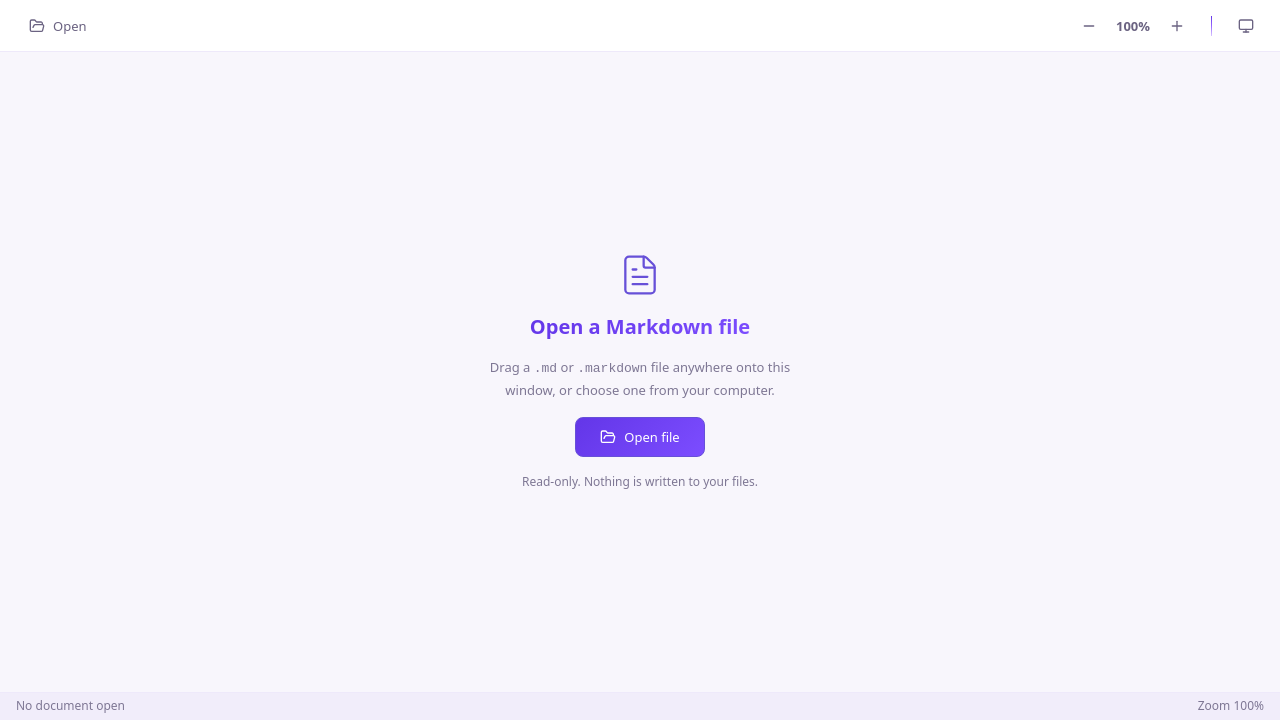
file-level states › reports a non-UTF-8 file without leaking raw OS text
Click the button "Open file" at (640, 437), box [575,417,705,457]
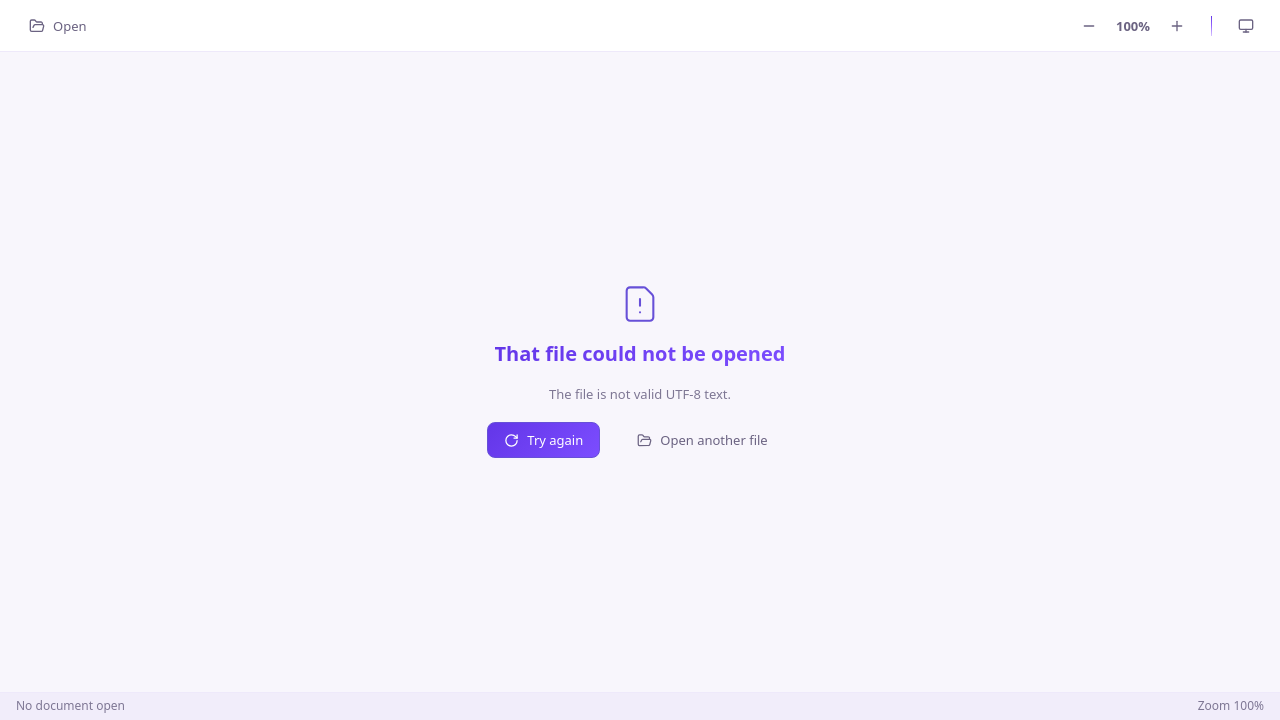
Expected: the message reads "The file is not valid UTF-8 text.", [549,385,731,403]
